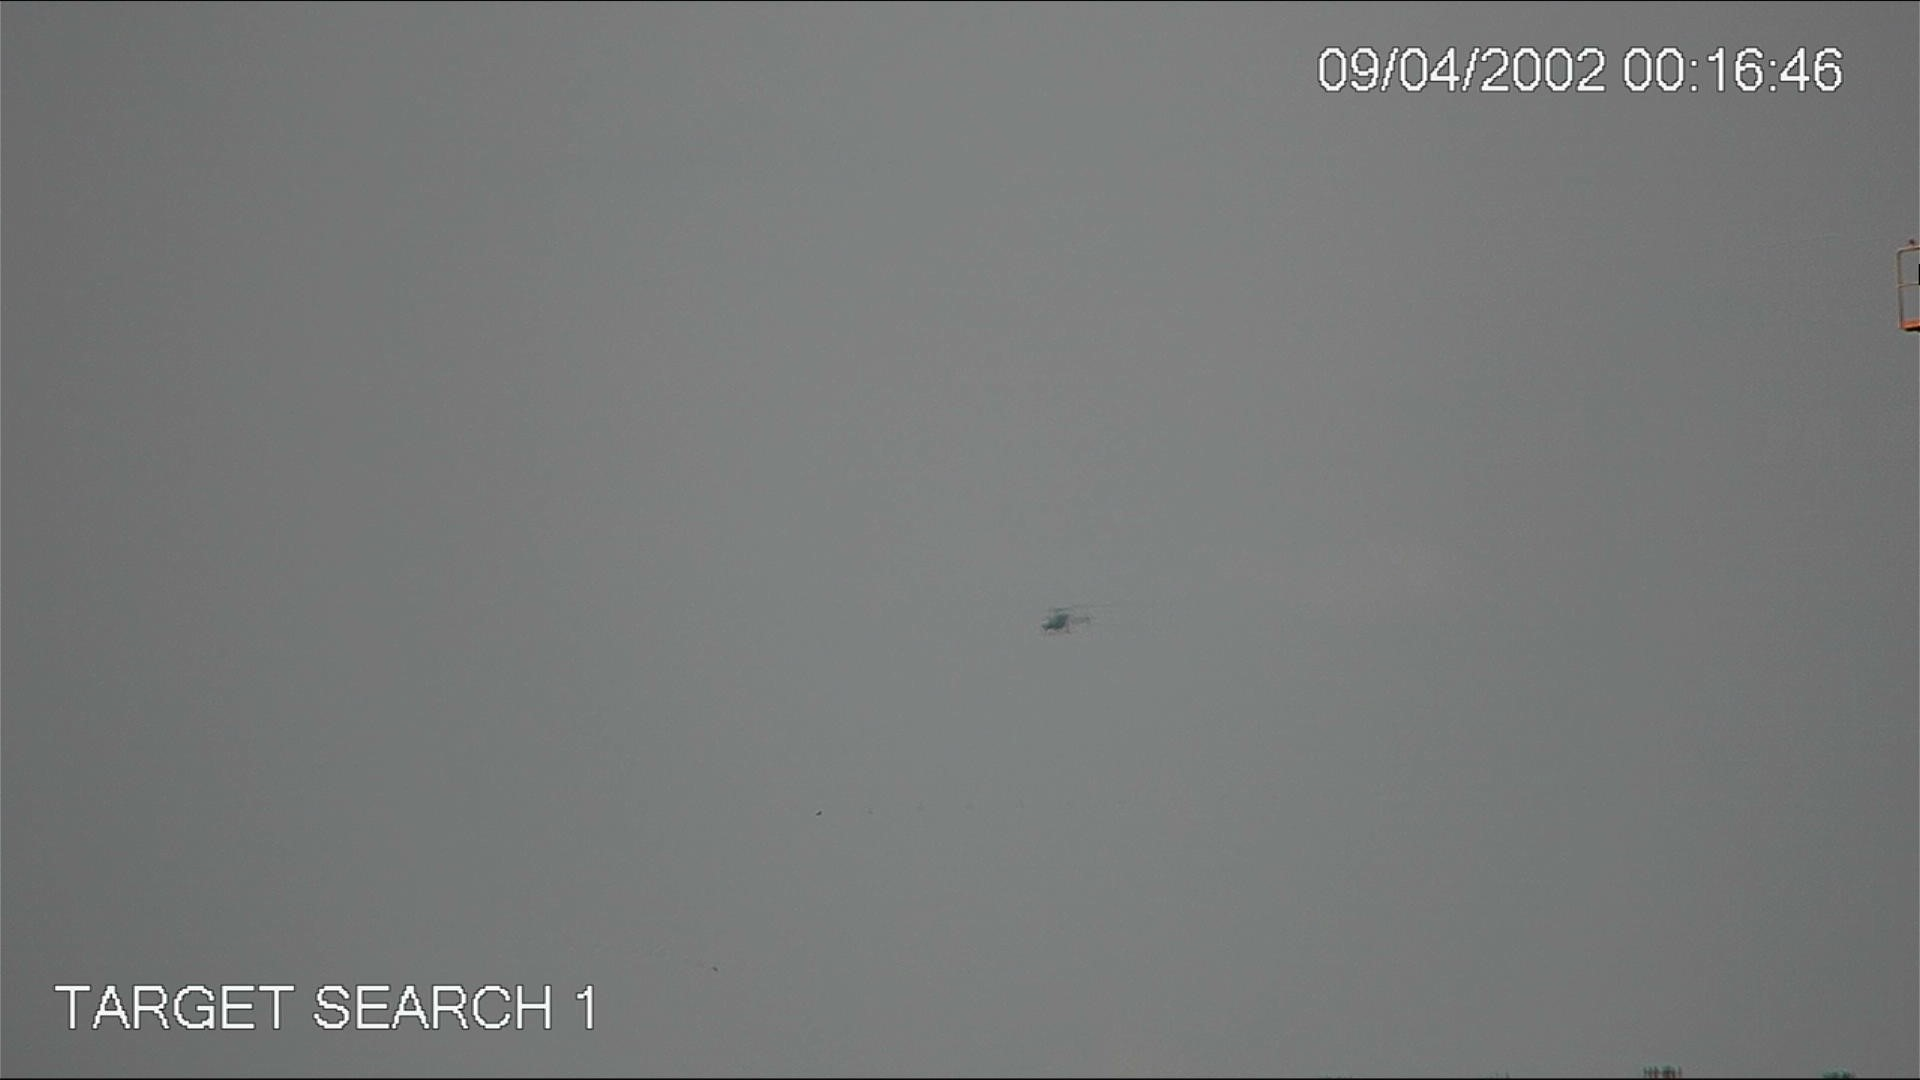SU_30: (1040, 612, 1075, 632)
